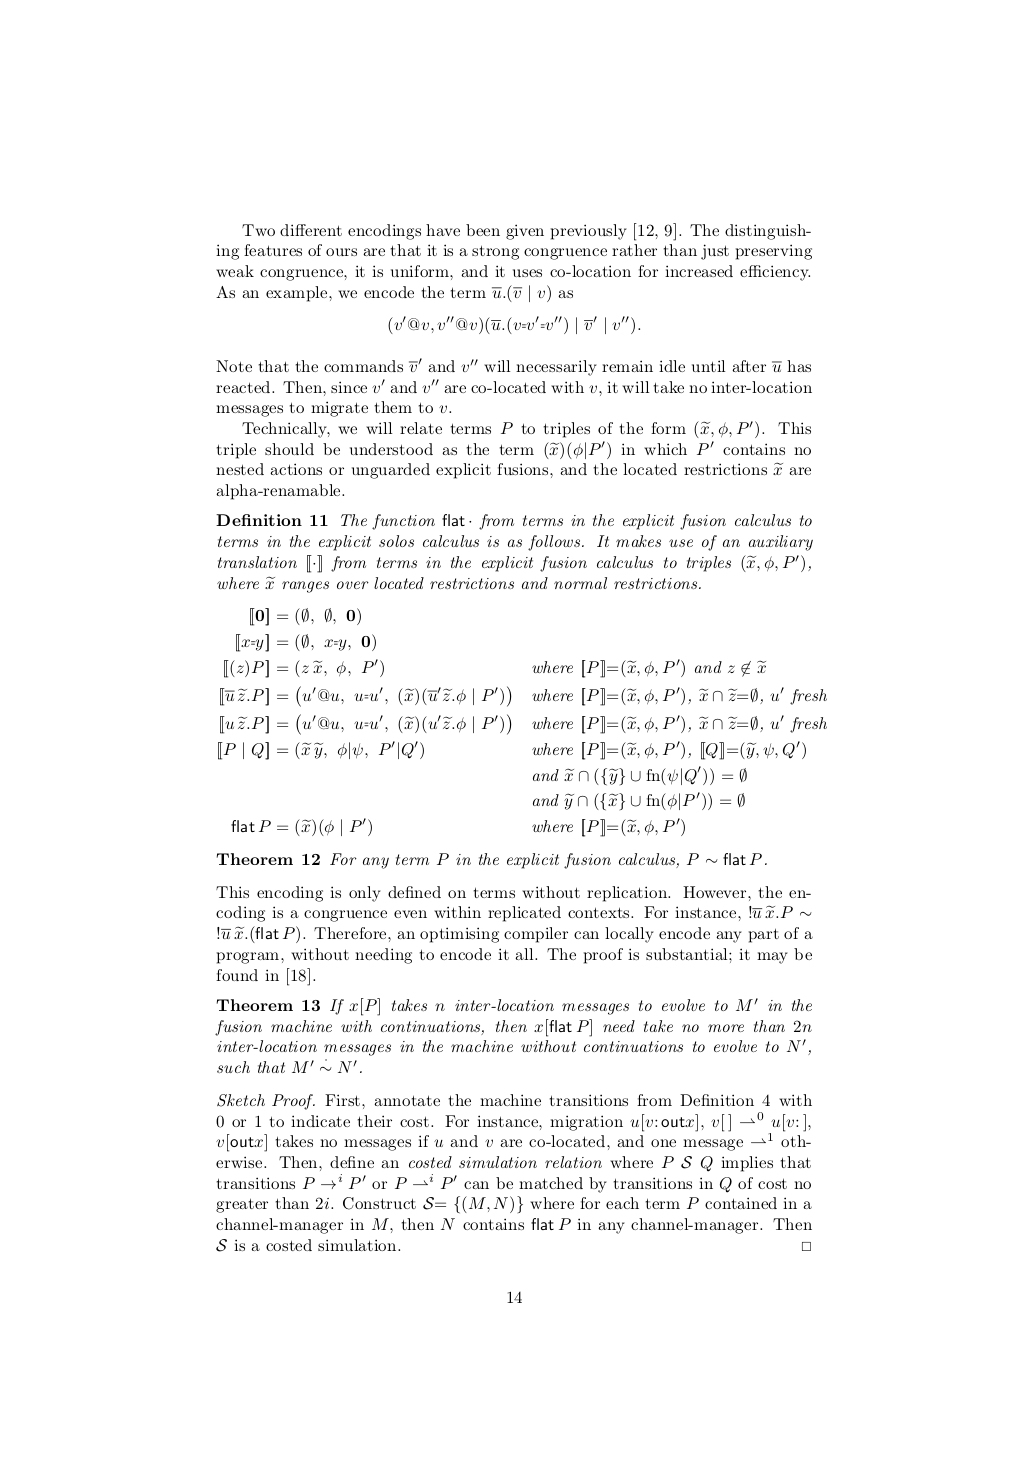formula: (220, 685, 826, 707), (220, 713, 826, 735), (218, 740, 804, 760), (224, 658, 767, 678), (231, 817, 684, 837), (388, 315, 640, 335), (532, 765, 746, 786), (532, 791, 744, 811), (237, 632, 375, 653), (250, 607, 360, 626)
